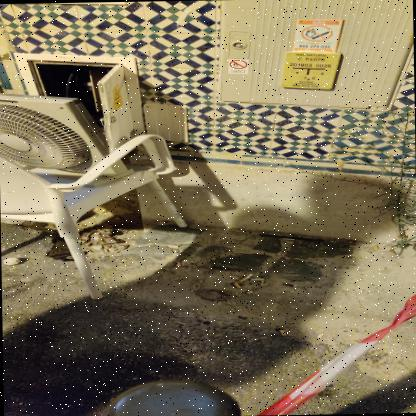Cigarette: (238, 273, 253, 281), (233, 282, 241, 288), (279, 330, 287, 336), (43, 229, 55, 233), (281, 237, 295, 240), (174, 261, 181, 266), (317, 333, 323, 338), (250, 278, 264, 280), (103, 248, 108, 252), (166, 245, 178, 246)
Plastic film: (90, 233, 118, 245)
